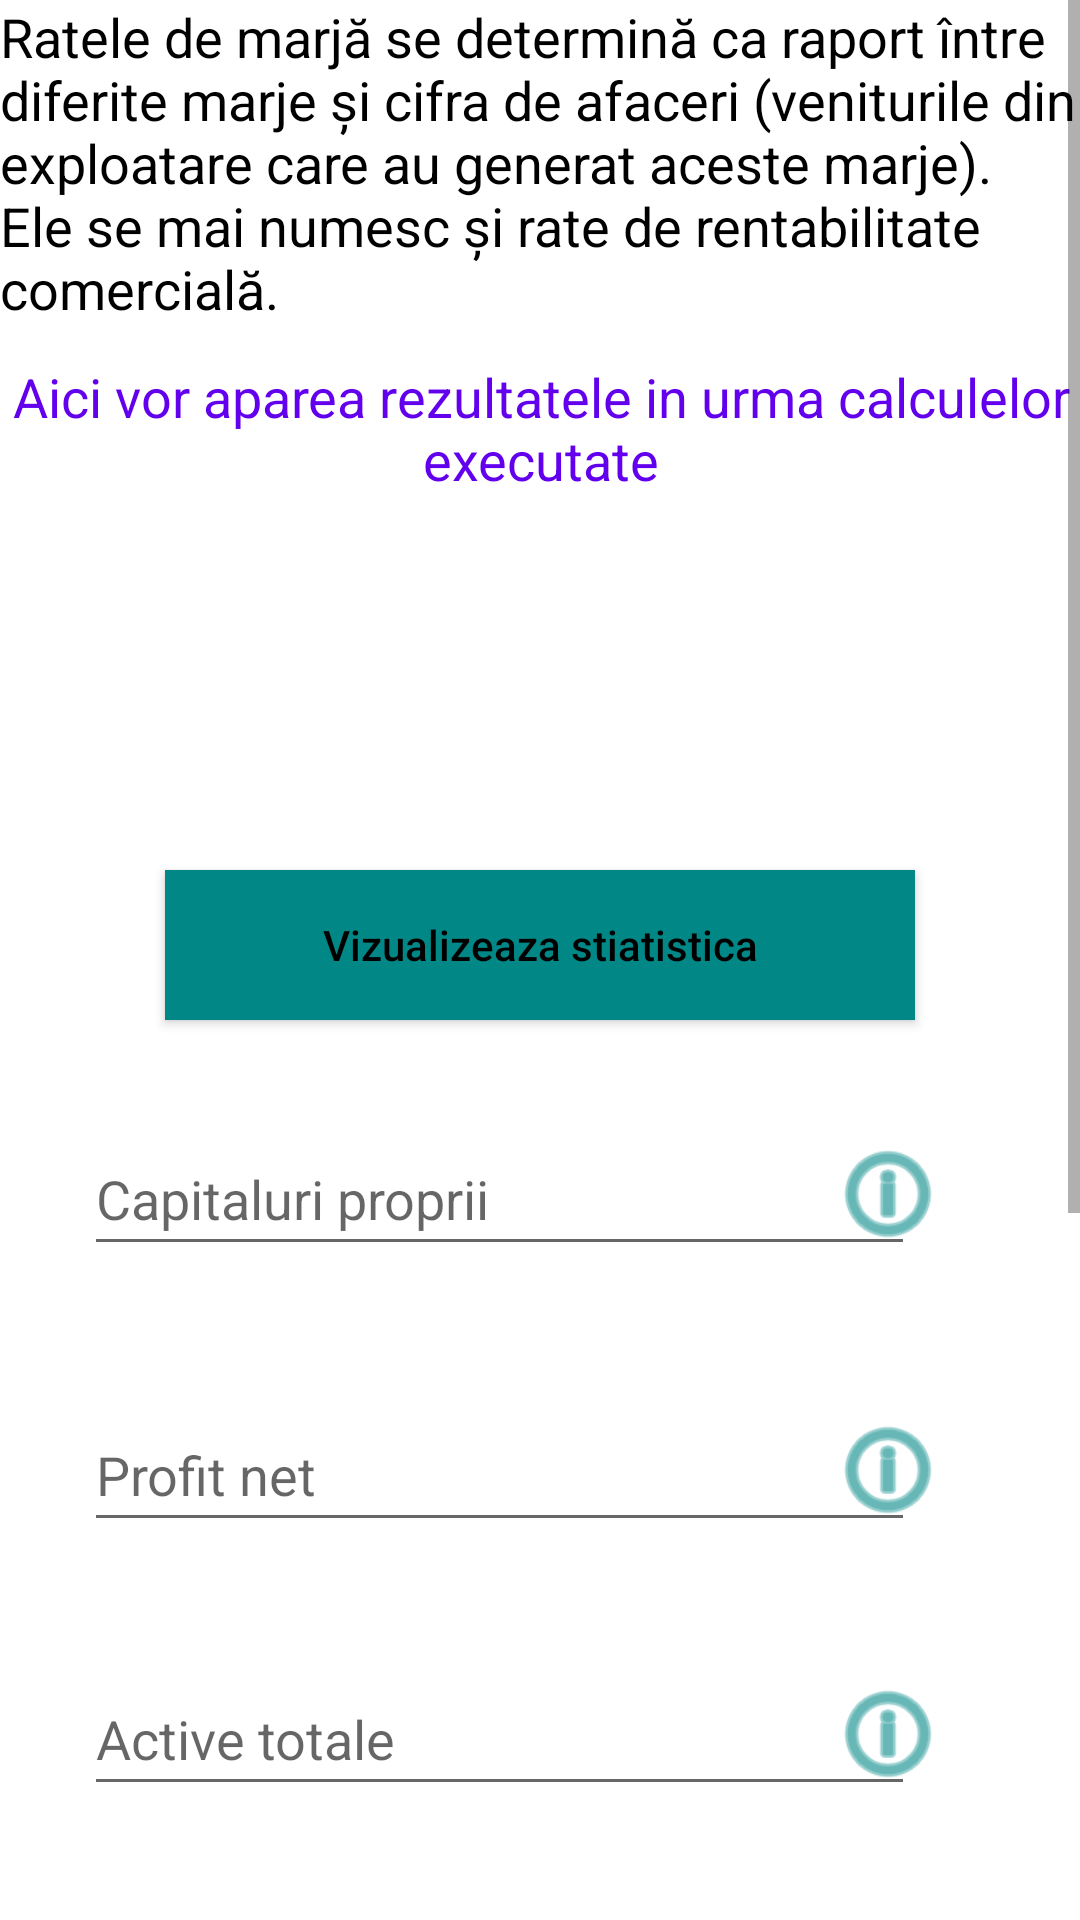

Point at icon controls on the screen. Image size 1080px x 1920px, points as (x,y).
info: (888,1194), (888,1470), (888,1734)
